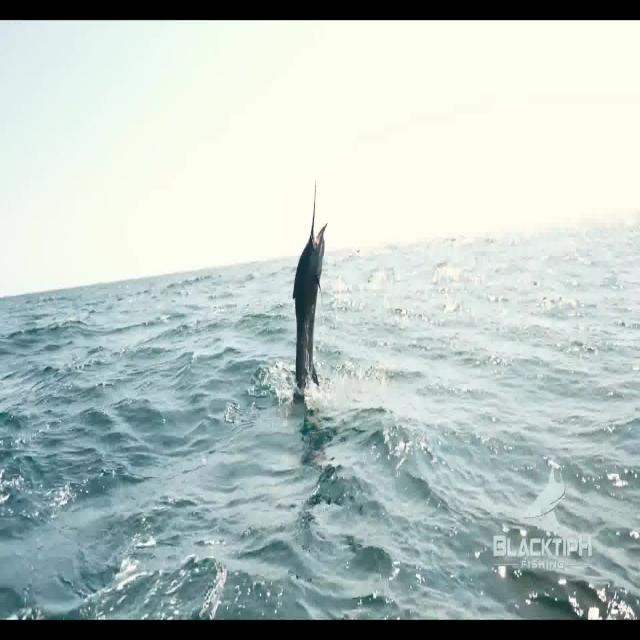Sail Fish: (291, 178, 328, 390)
